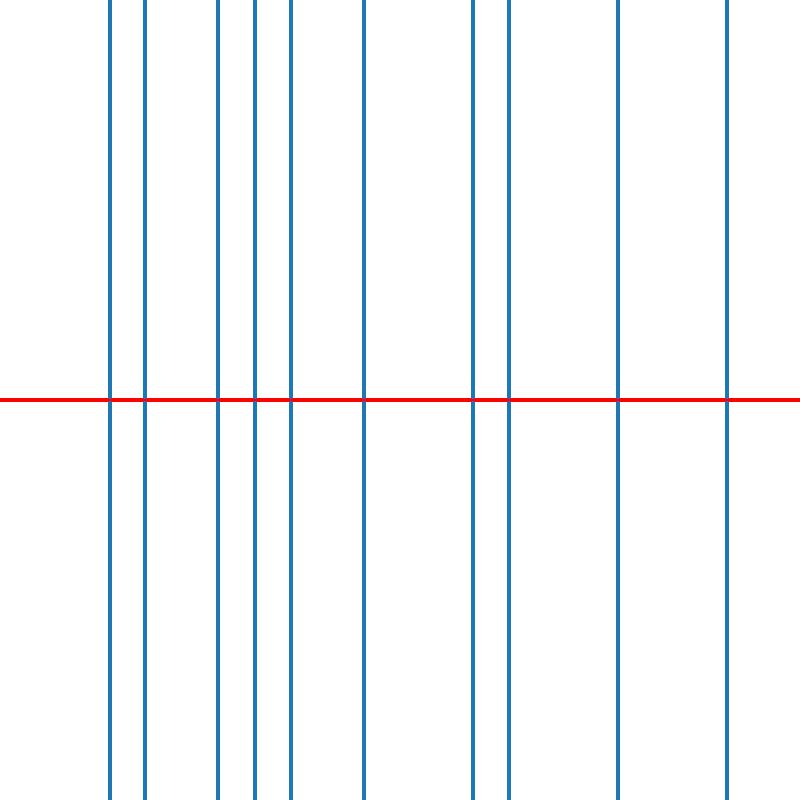root: (141, 396, 149, 404), (250, 396, 258, 404), (723, 396, 730, 404), (505, 396, 512, 404), (105, 396, 112, 404), (214, 396, 221, 404), (469, 396, 476, 404), (360, 396, 367, 404), (614, 396, 621, 404), (287, 396, 294, 404)
